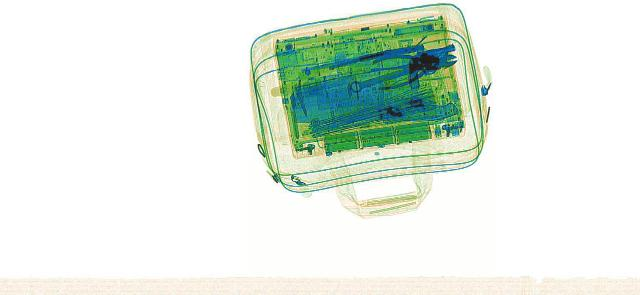Gun: (404, 44, 458, 88)
Knife: (288, 78, 460, 121)
Pliers: (342, 41, 472, 90)
Wrench: (338, 52, 466, 93)
